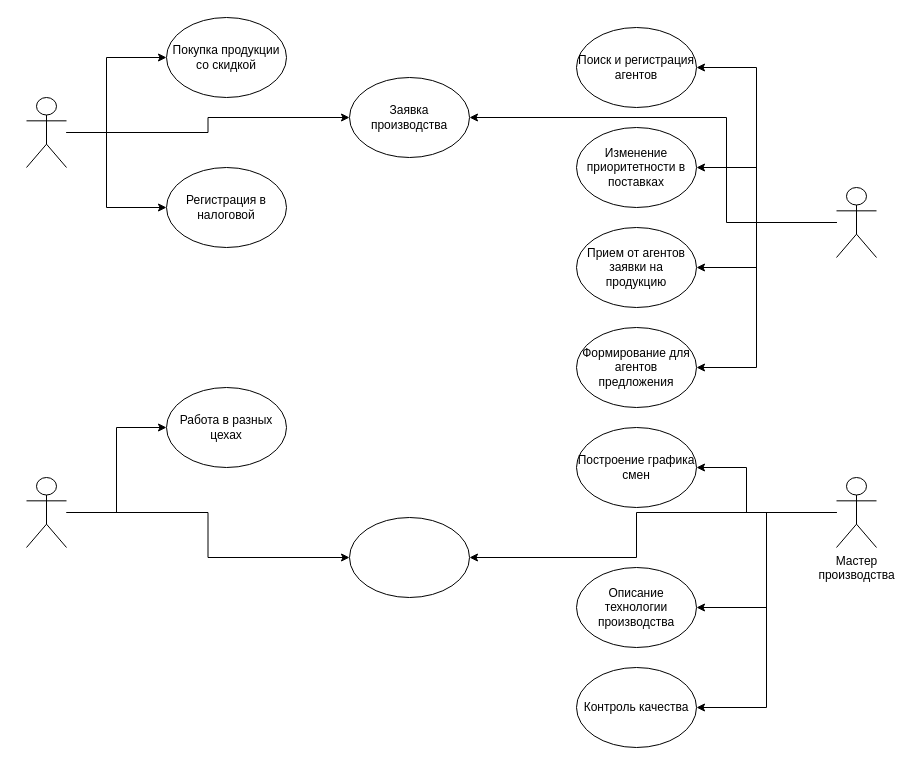
The diagram is 912 pixels wide and 765 high, and some of its shapes have lost their labels. Here are the shapes that lost their labels. From the top down, the box of each, then its label:
(26, 96, 66, 168): Агент
(836, 186, 876, 258): Менеджер
(26, 476, 66, 548): Сотрудник
(348, 516, 470, 598): Информация о сотруднике
